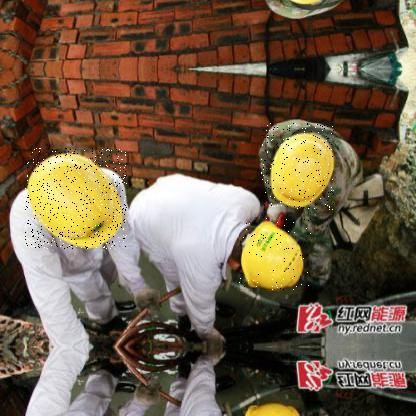safetyhelmet: (25, 148, 128, 250), (261, 124, 335, 212), (239, 218, 312, 292)
